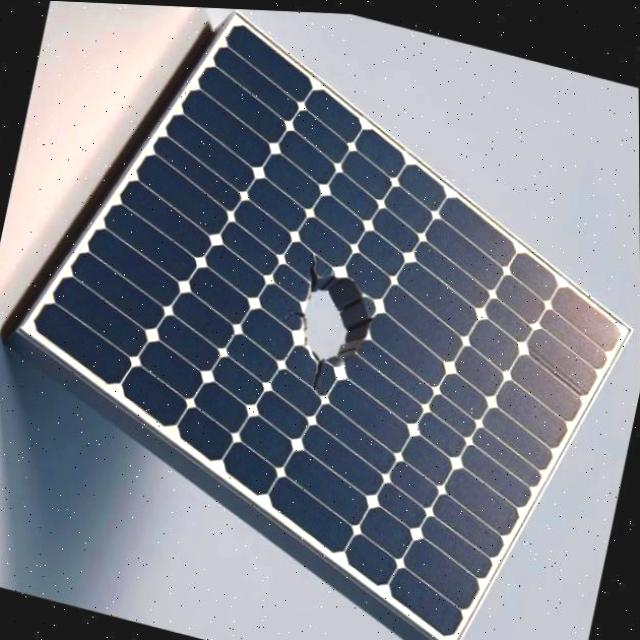Anomaly Solar Panel: (16, 10, 640, 640)
Structural Damage: (272, 244, 392, 392)
